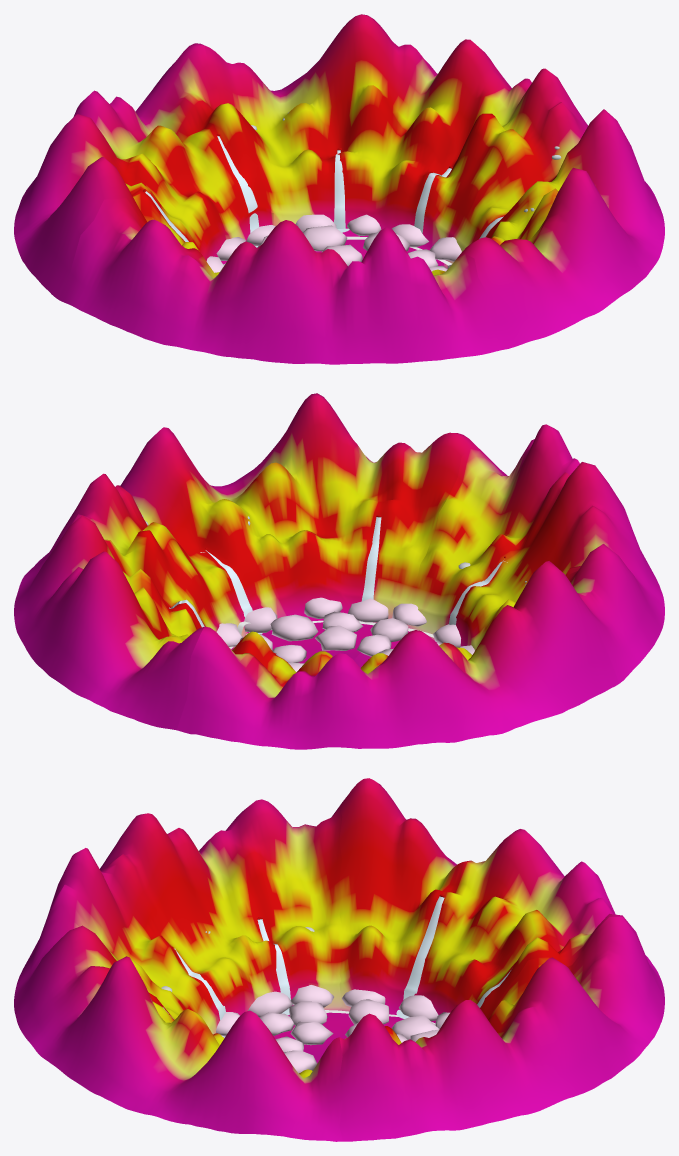
Rendered from zon_shell_far_lite_raw.glb.
3 renders of one model, top to bottom at view 1: azimuth 30°, elevation 25°; view 2: azimuth 150°, elevation 25°; view 3: azimuth 270°, elevation 25°, orthographic.
Parts seen in each view (by area): view 1: SM_shell_far_far_terrain_soft_xm1_z0_raw, SM_shell_far_far_terrain_soft_x0_zm1_s1_raw, SM_shell_far_far_terrain_soft_x0_z0_raw, SM_shell_far_far_terrain_soft_xm1_zm1_raw, SM_shell_far_cloud_x0_zm1_raw, SM_shell_far_far_falls_x0_zm1_raw; view 2: SM_shell_far_far_terrain_soft_x0_z0_raw, SM_shell_far_far_terrain_soft_xm1_zm1_raw, SM_shell_far_far_terrain_soft_xm1_z0_raw, SM_shell_far_far_terrain_soft_x0_zm1_s1_raw, SM_shell_far_cloud_x0_zm1_raw, SM_shell_far_far_falls_x0_zm1_raw; view 3: SM_shell_far_far_terrain_soft_xm1_z0_raw, SM_shell_far_far_terrain_soft_x0_zm1_s1_raw, SM_shell_far_far_terrain_soft_xm1_zm1_raw, SM_shell_far_far_terrain_soft_x0_z0_raw, SM_shell_far_cloud_x0_zm1_raw, SM_shell_far_far_falls_x0_zm1_raw.
Boxes of the visible parts, left/top/right/bottom form: SM_shell_far_far_terrain_soft_xm1_z0_raw: left=56, top=198, right=501, bottom=364; SM_shell_far_far_terrain_soft_x0_zm1_s1_raw: left=196, top=14, right=587, bottom=266; SM_shell_far_far_terrain_soft_x0_z0_raw: left=444, top=102, right=664, bottom=349; SM_shell_far_far_terrain_soft_xm1_zm1_raw: left=14, top=43, right=273, bottom=297; SM_shell_far_cloud_x0_zm1_raw: left=206, top=214, right=461, bottom=272; SM_shell_far_far_falls_x0_zm1_raw: left=145, top=136, right=503, bottom=247; SM_shell_far_far_terrain_soft_x0_z0_raw: left=117, top=393, right=473, bottom=663; SM_shell_far_far_terrain_soft_xm1_zm1_raw: left=177, top=561, right=619, bottom=749; SM_shell_far_far_terrain_soft_xm1_z0_raw: left=354, top=424, right=664, bottom=683; SM_shell_far_far_terrain_soft_x0_zm1_s1_raw: left=14, top=473, right=301, bottom=730; SM_shell_far_cloud_x0_zm1_raw: left=216, top=597, right=474, bottom=671; SM_shell_far_far_falls_x0_zm1_raw: left=169, top=517, right=503, bottom=643; SM_shell_far_far_terrain_soft_xm1_z0_raw: left=14, top=799, right=342, bottom=1060; SM_shell_far_far_terrain_soft_x0_zm1_s1_raw: left=339, top=917, right=664, bottom=1141; SM_shell_far_far_terrain_soft_xm1_zm1_raw: left=337, top=778, right=664, bottom=1039; SM_shell_far_far_terrain_soft_x0_z0_raw: left=14, top=925, right=342, bottom=1141; SM_shell_far_cloud_x0_zm1_raw: left=216, top=985, right=449, bottom=1073; SM_shell_far_far_falls_x0_zm1_raw: left=163, top=896, right=511, bottom=1037.
Bounding box in the file's own units: 728 × 219 × 728.
